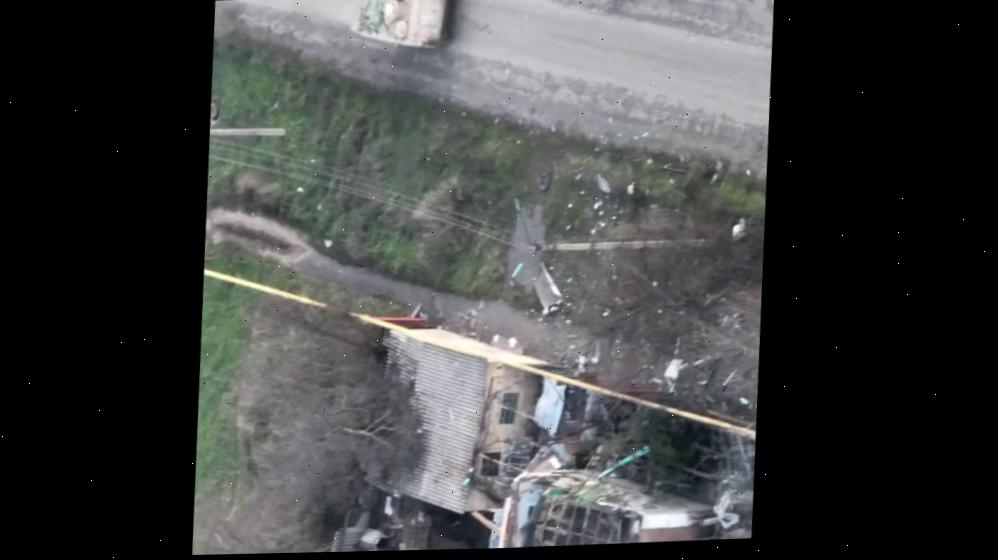vehicle: (351, 0, 453, 51)
